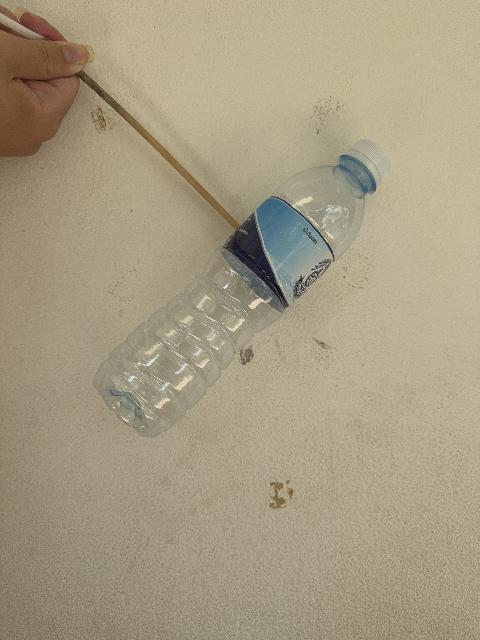bottle: (94, 140, 390, 436)
